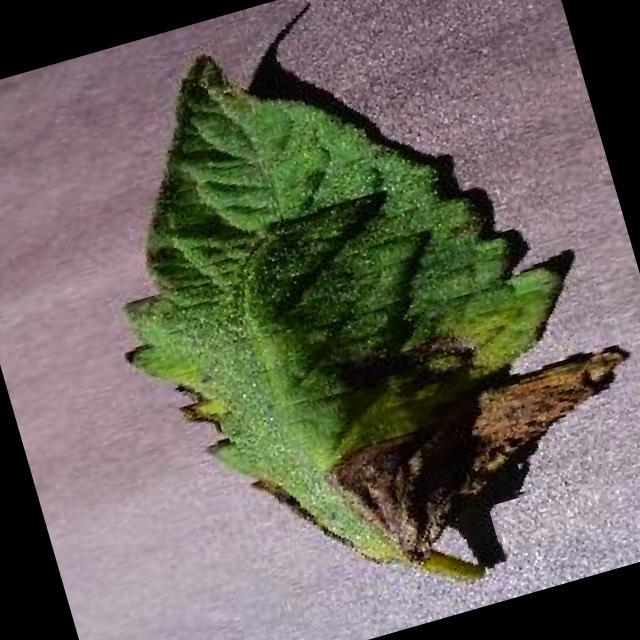Tomato Early blight leaf: (54, 0, 640, 622)
